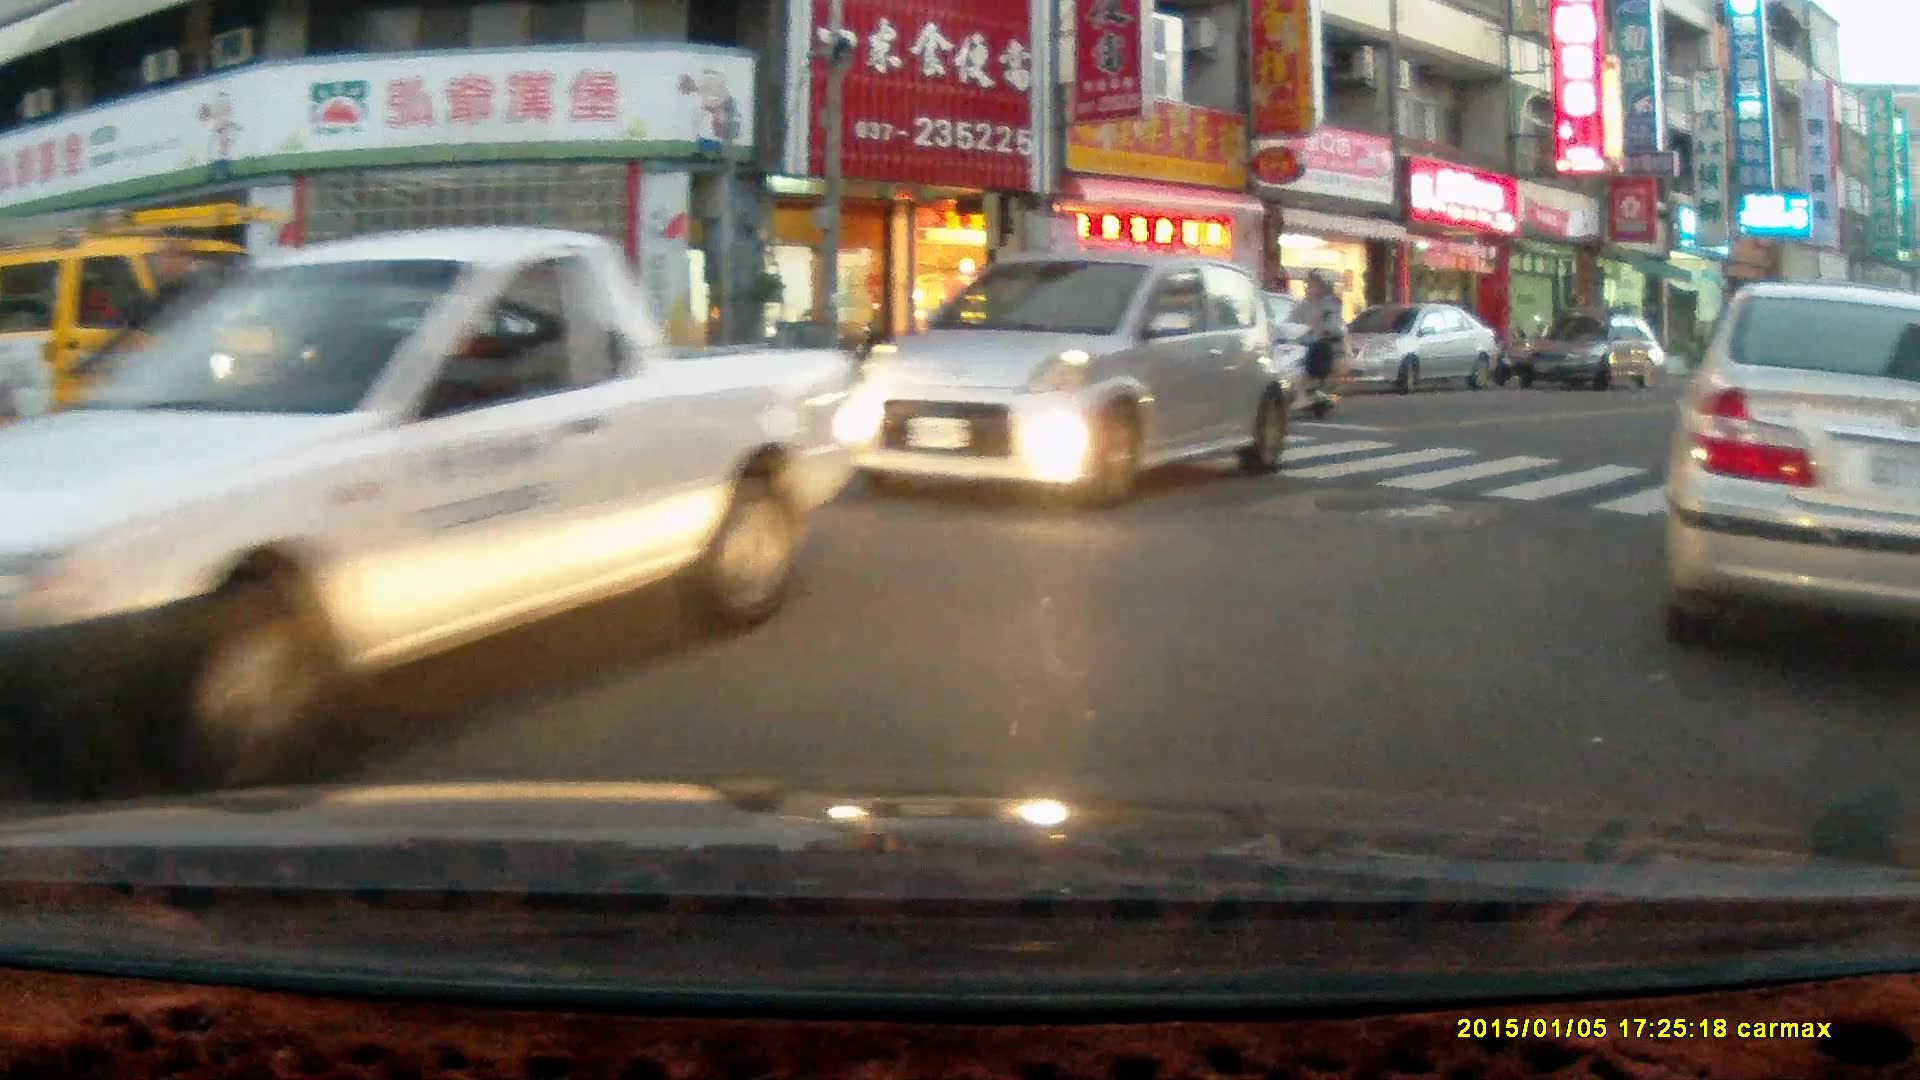rider: (1262, 263, 1344, 425)
vehicle: (12, 223, 886, 775), (829, 252, 1304, 507), (1667, 280, 1918, 678), (1, 197, 315, 476), (297, 290, 620, 436), (1336, 304, 1497, 393), (1513, 315, 1667, 390)
